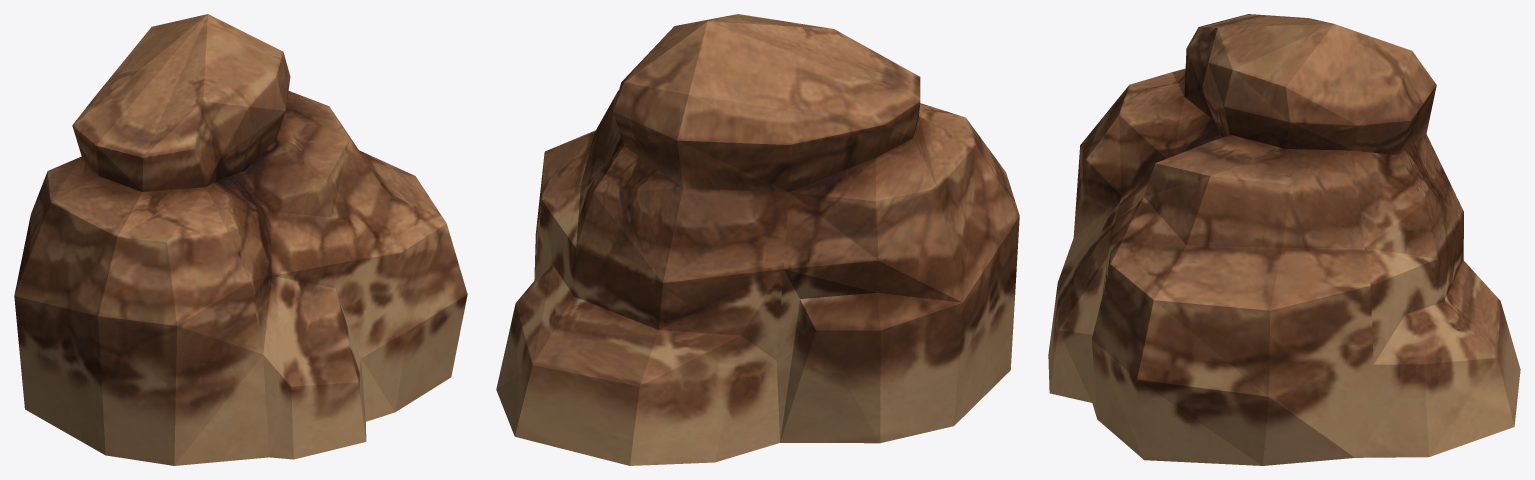
Rendered from Item_5008_shitou_shitou02.FBX.
3 renders of one model, left to right at view 1: azimuth 30°, elevation 25°; view 2: azimuth 150°, elevation 25°; view 3: azimuth 270°, elevation 25°, orthographic. The views are drawn at different scales.
Parts seen in each view (by area): view 1: Item_5008_shitou_shitou02; view 2: Item_5008_shitou_shitou02; view 3: Item_5008_shitou_shitou02.
Part boxes in pixels (box(x1,y1,x2,y2)): Item_5008_shitou_shitou02: box(14, 14, 467, 465); Item_5008_shitou_shitou02: box(496, 14, 1019, 465); Item_5008_shitou_shitou02: box(1048, 14, 1520, 465).
Bounding box in the file's own units: 341 × 278 × 329.
